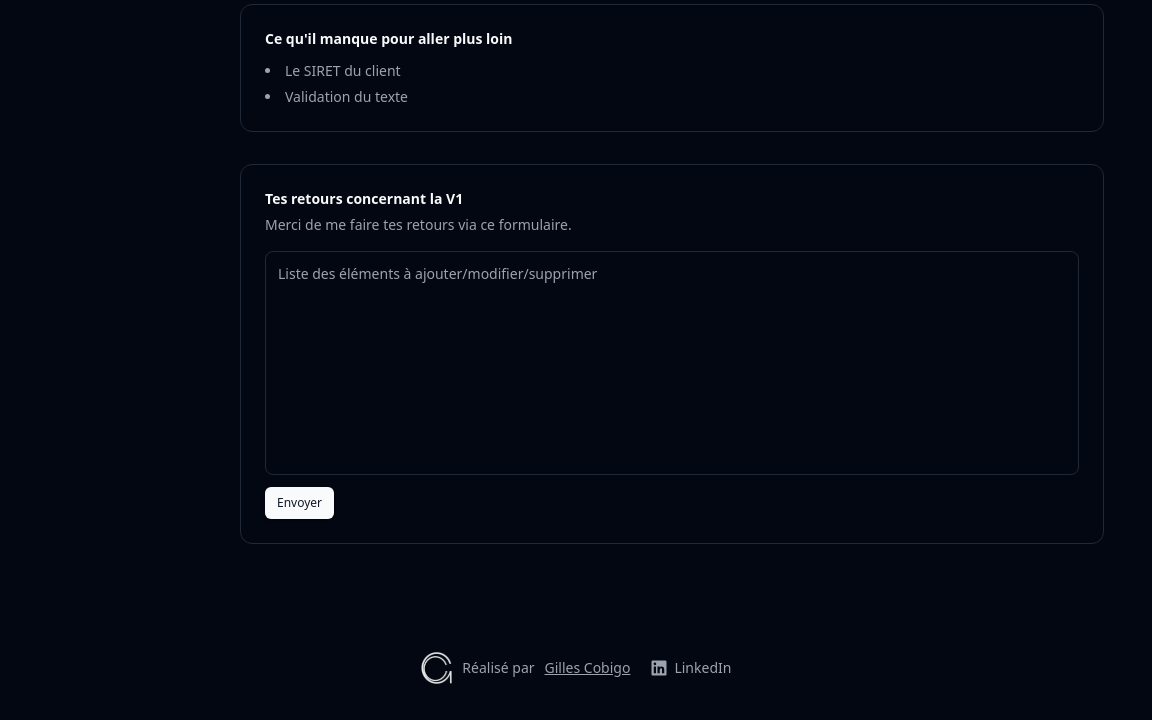
Scenario: PreviewRound › shows a validation error when submitting an empty feedback message
(page scrolled)
Step 1. Click the button "Envoyer" → (300, 503), box [265, 487, 334, 519]
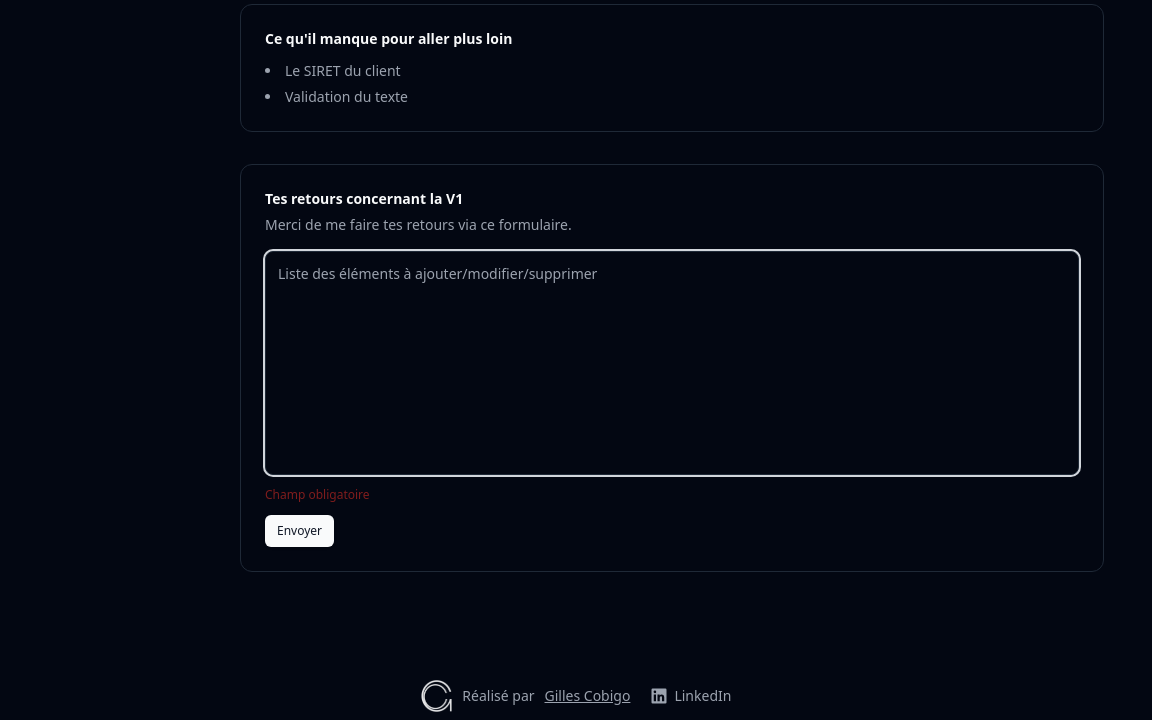
Result: the message reads "Champ obligatoire" at [265, 486, 370, 503]
